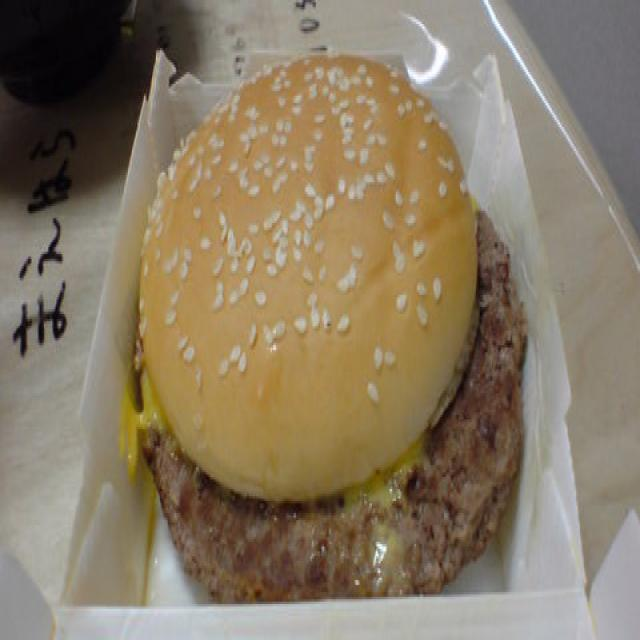汉堡快餐: (12, 230, 309, 640)
